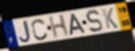A: (70, 13, 88, 37)
C: (31, 18, 49, 41)
H: (48, 14, 70, 40)
J: (18, 19, 32, 44)
K: (101, 7, 119, 30)
S: (85, 9, 104, 34)
